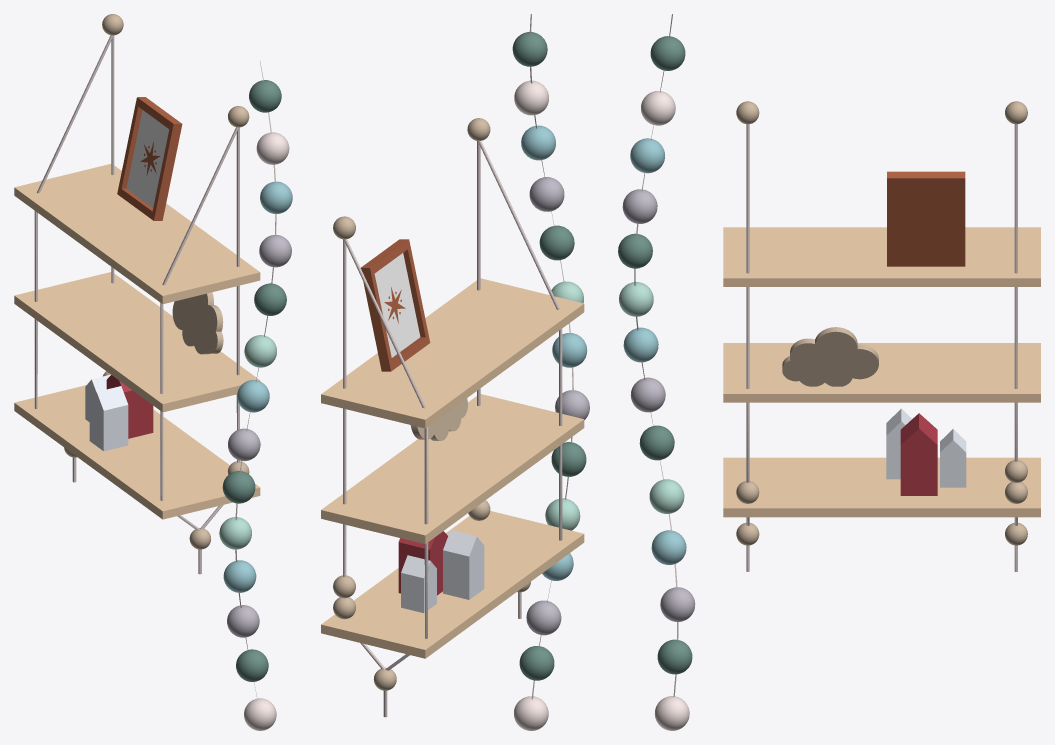
Rendered from Furn2_bookcase_right_color3_joined.fbx.
3 views of the same model, side by side, from view 1: azimuth 30°, elevation 25°; view 2: azimuth 150°, elevation 25°; view 3: azimuth 270°, elevation 25° (orthographic). The views are drawn at different scales.
Parts seen in each view (by area): view 1: Сфера.020; view 2: Сфера.020; view 3: Сфера.020.
Boxes of the visible parts, left/top/right/bottom form: Сфера.020: left=14, top=14, right=292, bottom=730; Сфера.020: left=321, top=14, right=589, bottom=730; Сфера.020: left=618, top=14, right=1040, bottom=730.
Bounding box in the file's own units: 82.67 × 541 × 290.
